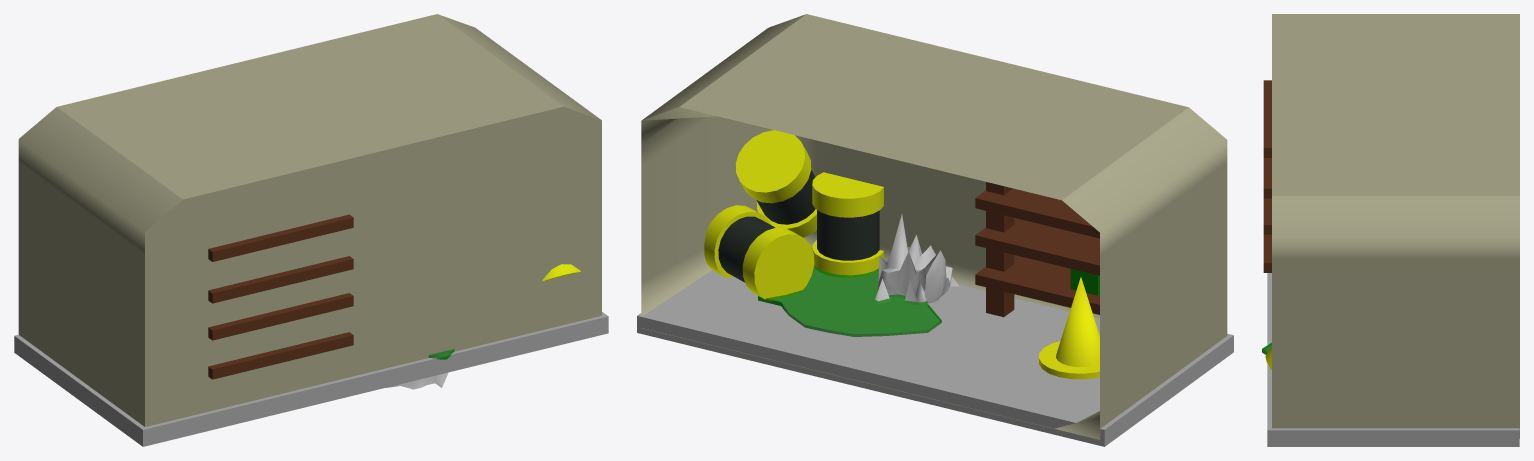
The model's file is Storage_Room.fbx.
3 views of the same model, side by side, from view 1: azimuth 30°, elevation 25°; view 2: azimuth 150°, elevation 25°; view 3: azimuth 270°, elevation 25° (orthographic). The views are drawn at different scales.
Visible parts, largest first — view 1: pasted__pCylinder4; view 2: pasted__pCylinder4; view 3: pasted__pCylinder4.
Part boxes in pixels (x1,y1,x2,y2): pasted__pCylinder4: (14,14,608,446); pasted__pCylinder4: (637,14,1233,446); pasted__pCylinder4: (1262,14,1519,446).
Size of the model in its own units: 17.03 by 8.97 by 8.34.
